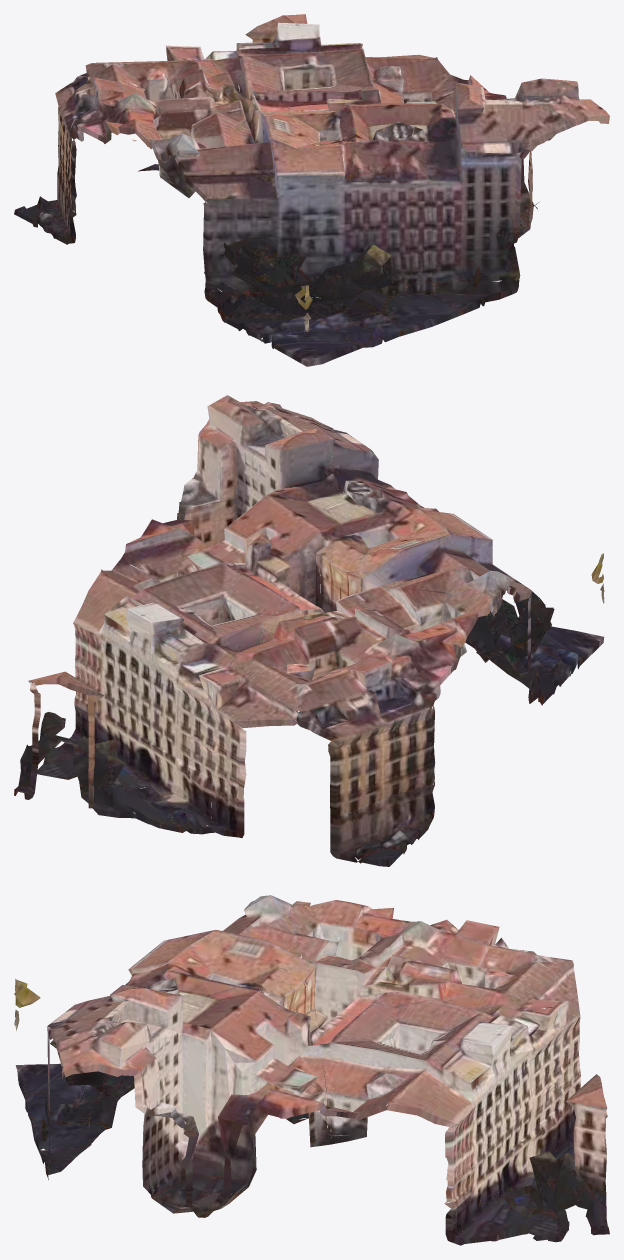
3 renders of one model, top to bottom at view 1: azimuth 30°, elevation 25°; view 2: azimuth 150°, elevation 25°; view 3: azimuth 270°, elevation 25°, orthographic. The views are drawn at different scales.
Visible parts, largest first — view 1: Mesh_0; view 2: Mesh_0; view 3: Mesh_0.
Part boxes in pixels (<box>): Mesh_0: <box>14,14,609,366</box>; Mesh_0: <box>14,395,604,866</box>; Mesh_0: <box>14,895,609,1245</box>.
Bounding box in the file's own units: 66.57 × 34.6 × 82.86.
Materials: 2 (2 with a texture image).
